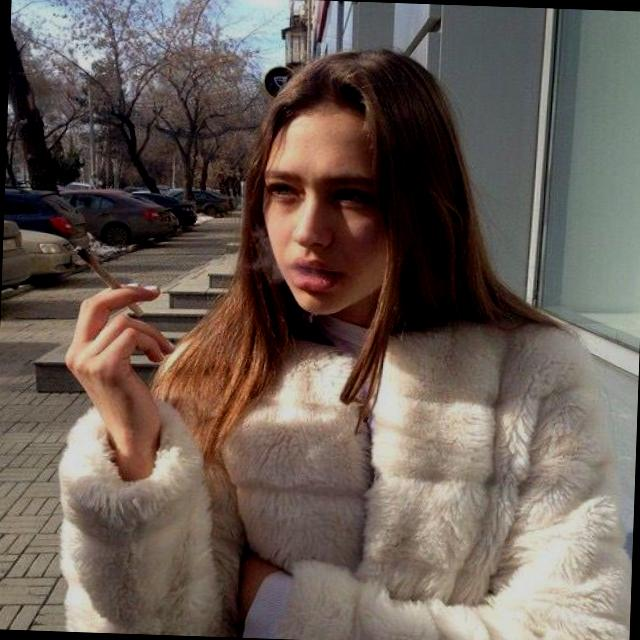smoke: (59, 224, 153, 314)
